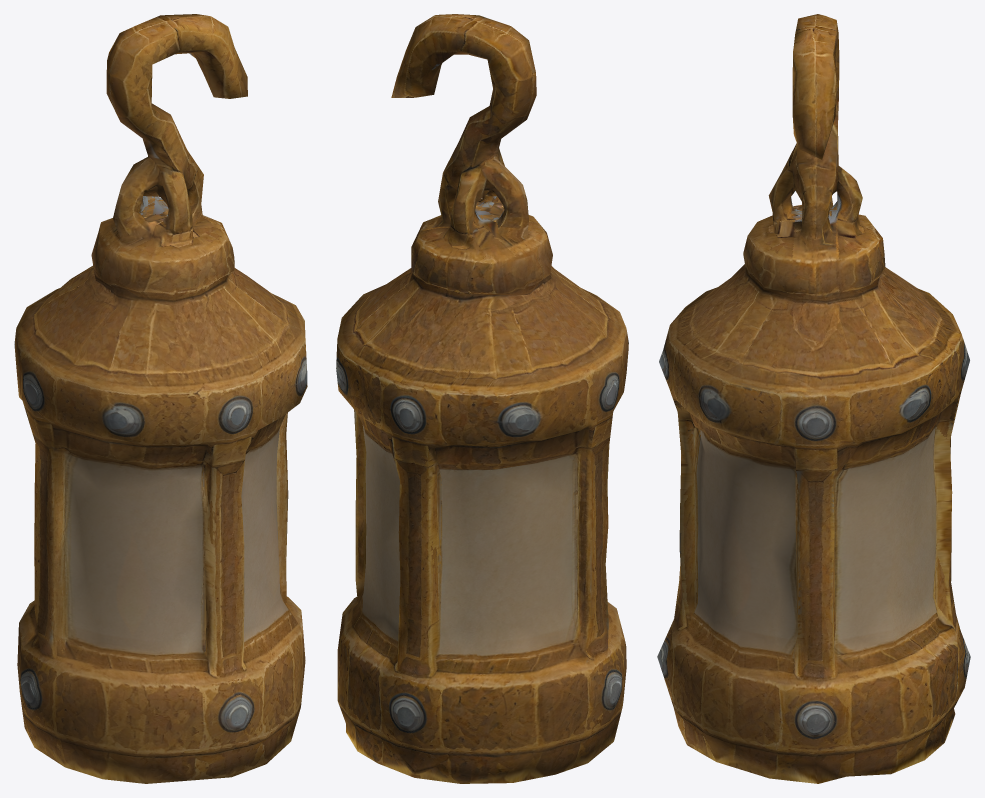
The model's file is Lantern.glb.
The picture shows the model from 3 angles, left to right: view 1: azimuth 30°, elevation 25°; view 2: azimuth 150°, elevation 25°; view 3: azimuth 270°, elevation 25°; orthographic projection.
Parts seen in each view (by area): view 1: texture_mapping; view 2: texture_mapping; view 3: texture_mapping.
Boxes of the visible parts, left/top/right/bottom form: texture_mapping: left=14, top=14, right=307, bottom=783; texture_mapping: left=336, top=14, right=628, bottom=783; texture_mapping: left=657, top=14, right=970, bottom=783.
Bounding box in the file's own units: 0.399 × 0.9978 × 0.403.
1 material, 1 textured.
